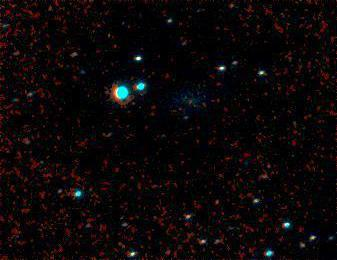star: (60, 161, 90, 191)
